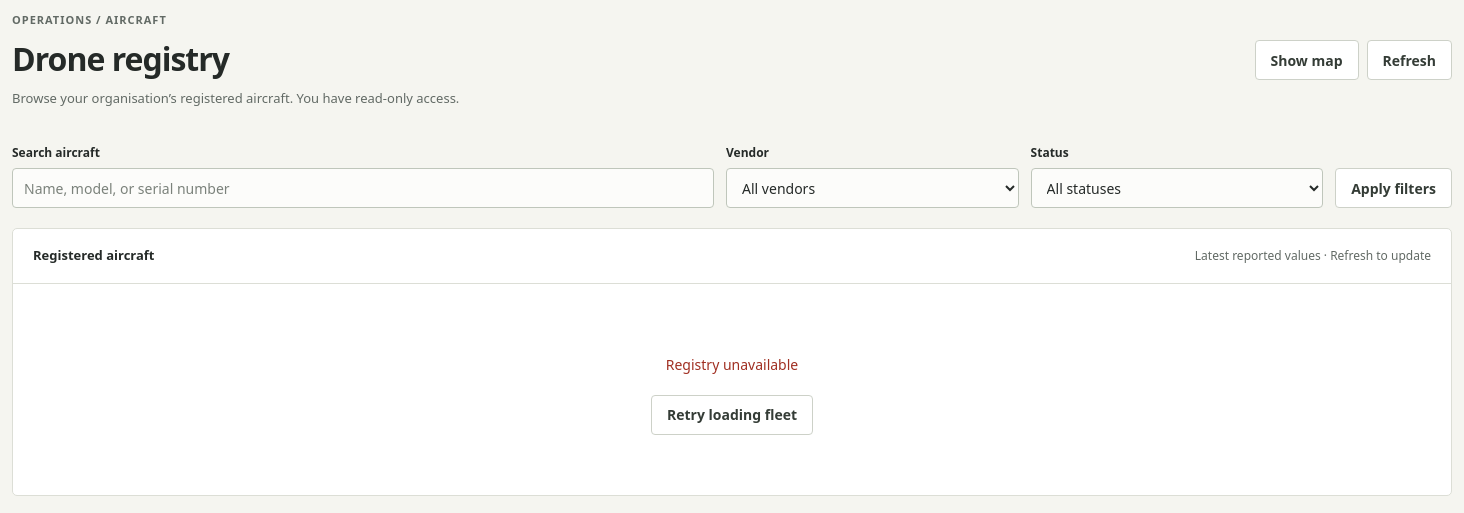
Test: drone registry › offers retry after a failed list request
This screenshot has width=1464, height=513.
Expected: the message reads "Registry unavailable", left=666, top=354, right=798, bottom=374
Click the button "Retry loading fleet" at (732, 414), box left=651, top=394, right=813, bottom=434
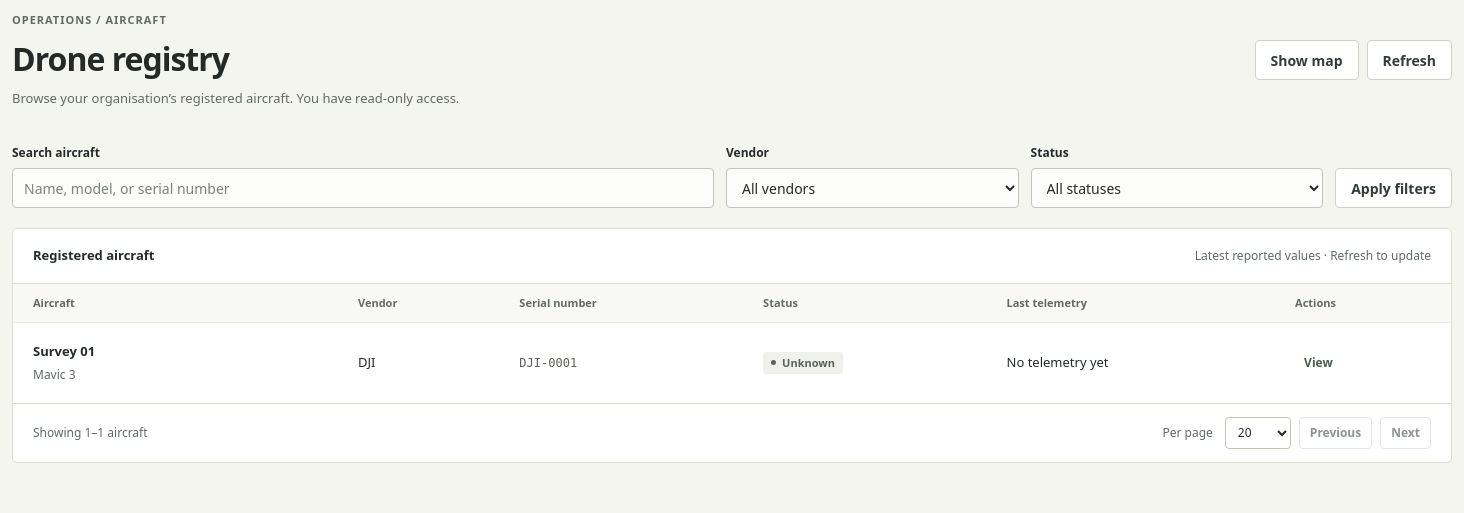
Expected: the text "Survey 01" is shown, left=33, top=342, right=95, bottom=360
